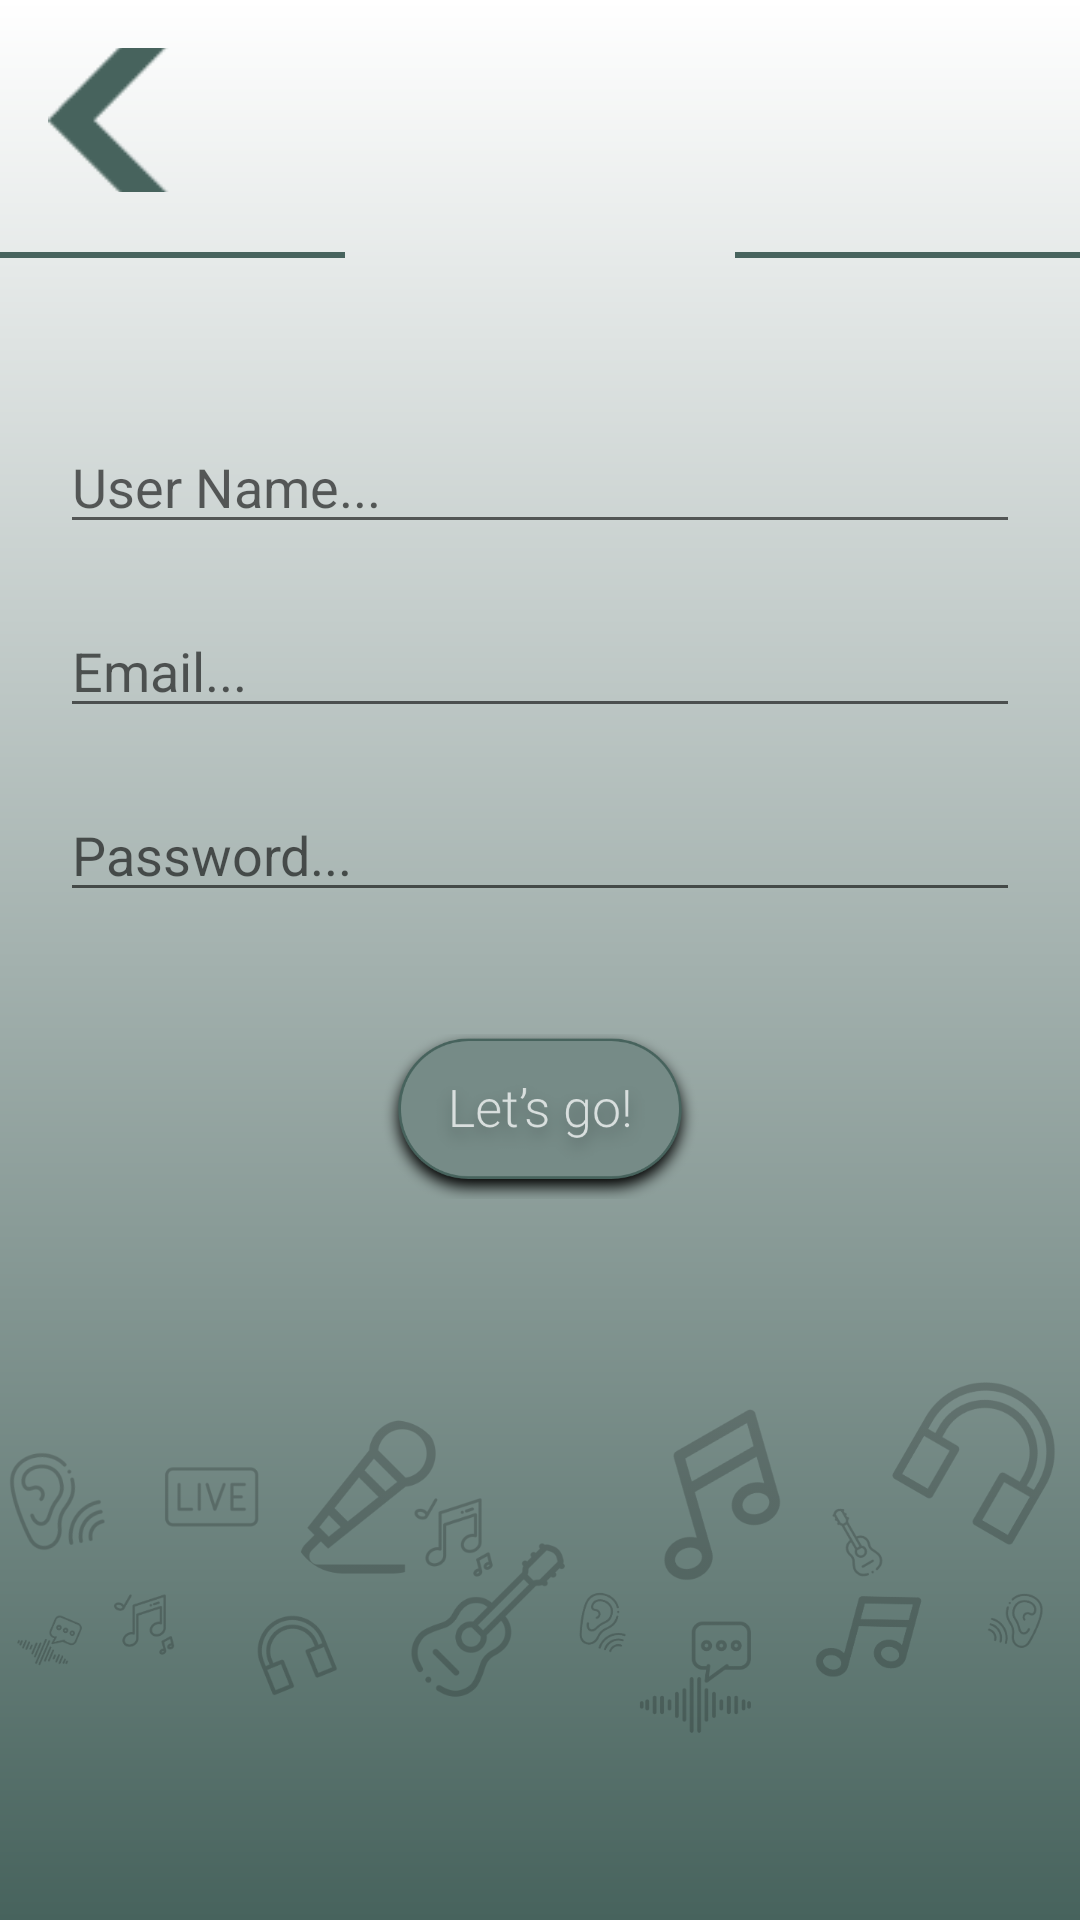

Screen size 1080 x 1920. Icon name, then its box in pixels as region(x1, y1, x2, y2):
previous: region(48, 48, 168, 192)
